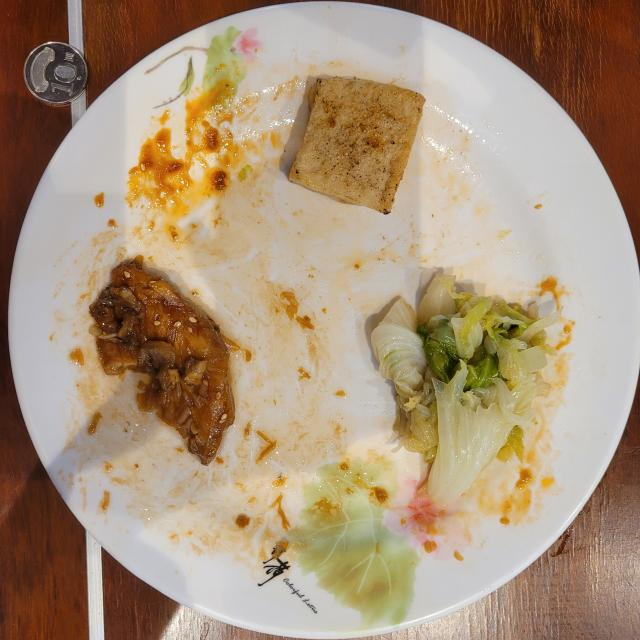Kabayaki sea bream fillet: (90, 258, 235, 464)
cabbage: (372, 275, 559, 506)
coin: (24, 42, 88, 105)
creamy tofu -without sauce-: (289, 78, 425, 214)
